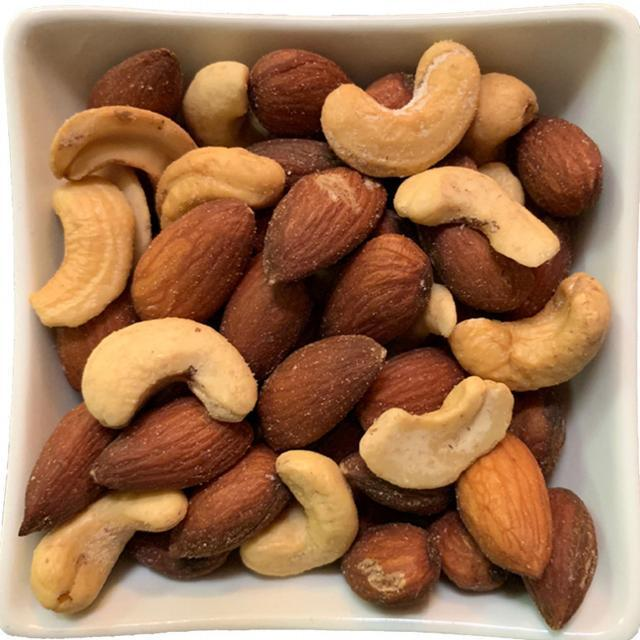Frutta secca: (36, 51, 594, 611)
